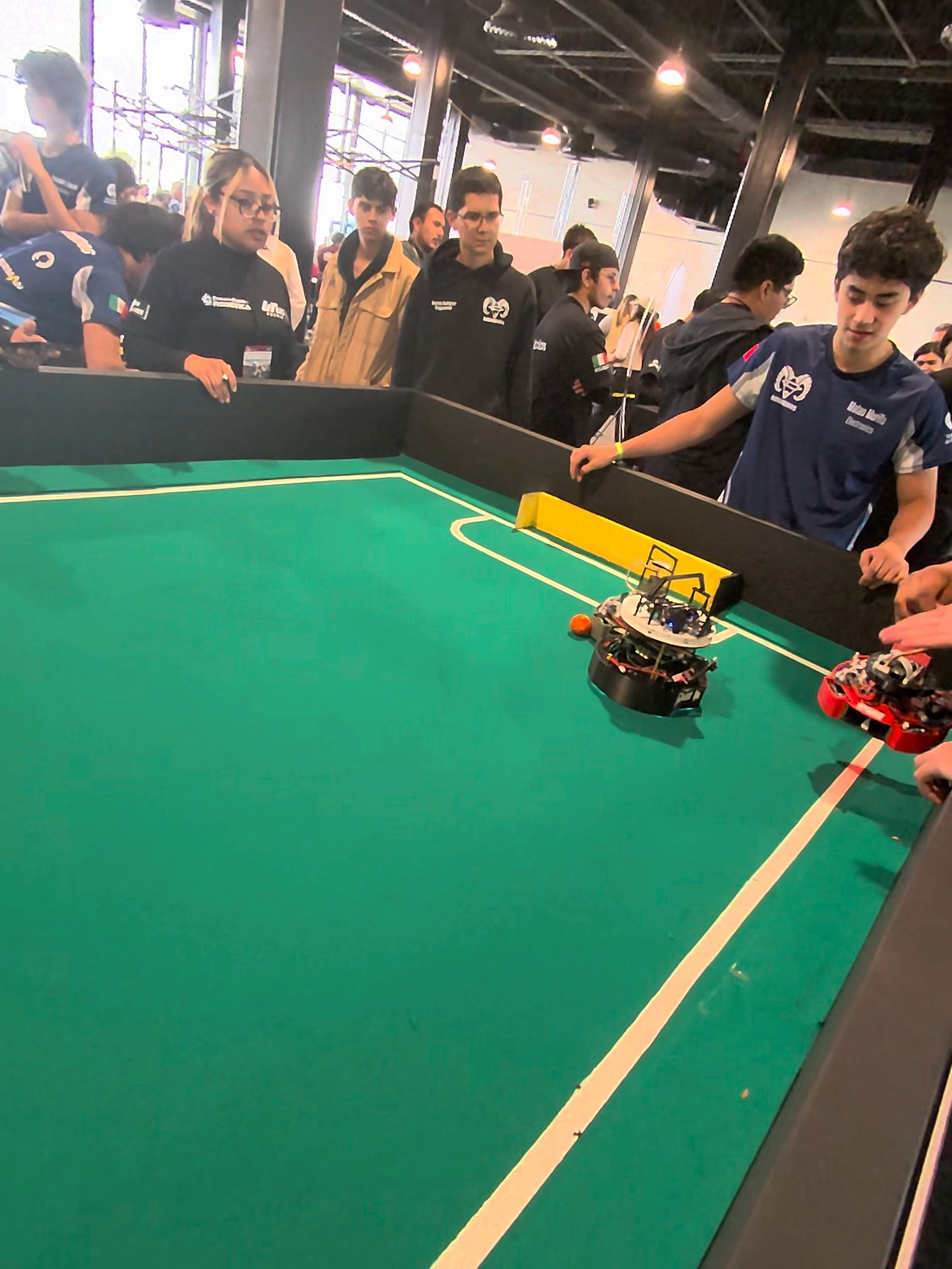Robot: (577, 538, 728, 735), (862, 639, 952, 756)
pelota: (570, 612, 590, 639)
